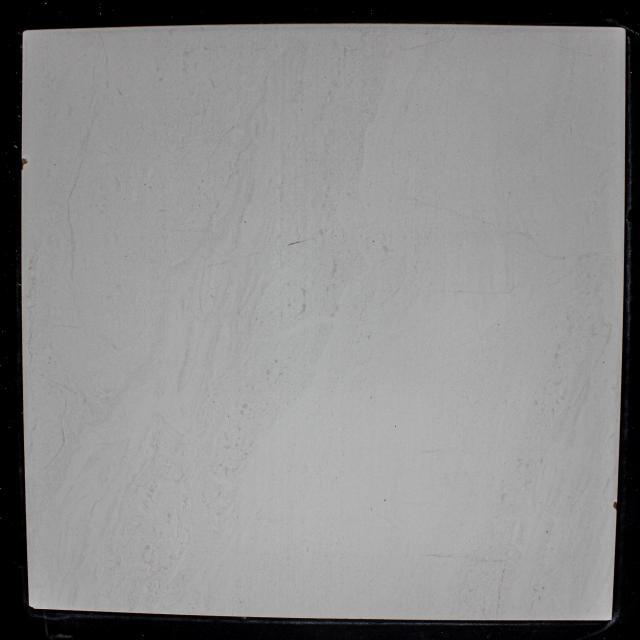edge-chipping: (612, 499, 618, 514), (21, 158, 29, 168)
